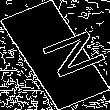N_SW: (15, 26, 95, 84)
